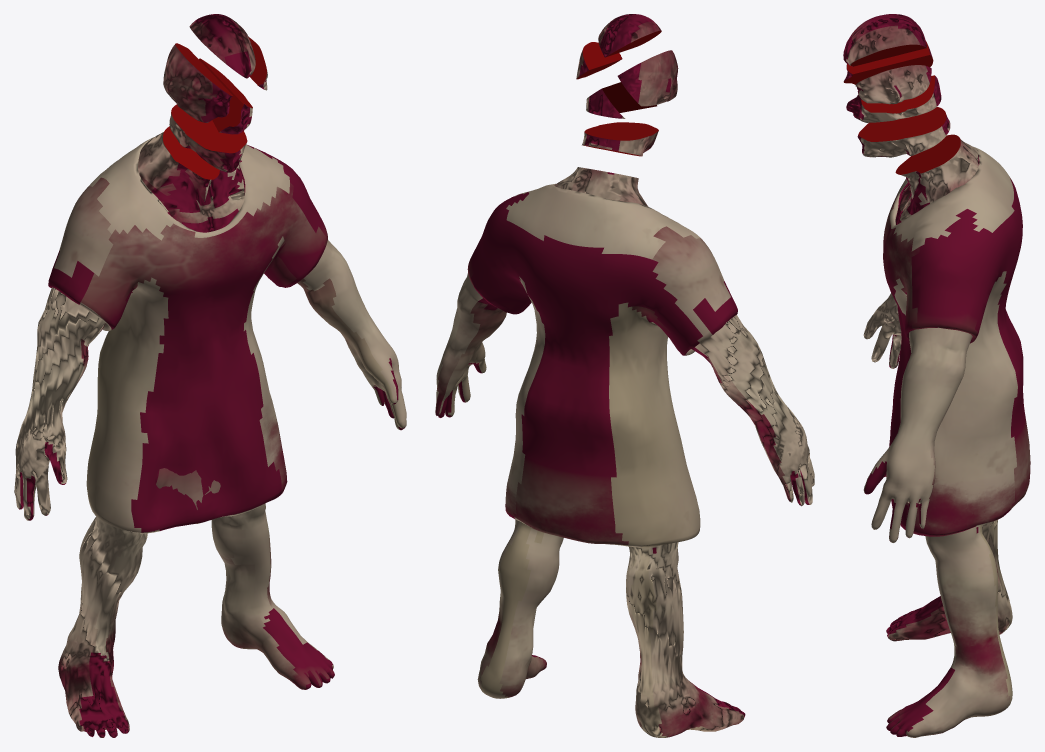
Rendered from mainchardecapated.fbx.
The picture shows the model from 3 angles, left to right: view 1: azimuth 30°, elevation 25°; view 2: azimuth 150°, elevation 25°; view 3: azimuth 270°, elevation 25°; orthographic projection. The views are drawn at different scales.
Parts seen in each view (by area): view 1: polySurface14, polySurface7, polySurface13, polySurface1, polySurface10; view 2: polySurface14, polySurface7, polySurface13, polySurface1, polySurface10, polySurface4; view 3: polySurface14, polySurface13, polySurface1, polySurface4, polySurface10, polySurface7.
Part boxes in pixels (x1,y1,x2,y2): polySurface14: (14,126,406,737); polySurface7: (163,43,232,122); polySurface13: (169,104,247,172); polySurface1: (189,14,255,78); polySurface10: (199,58,252,134); polySurface14: (435,167,814,737); polySurface7: (617,50,678,106); polySurface13: (582,122,658,156); polySurface1: (598,14,661,57); polySurface10: (586,82,656,118); polySurface4: (576,42,622,79); polySurface14: (863,134,1030,737); polySurface13: (857,107,950,157); polySurface1: (843,14,926,66); polySurface4: (855,65,931,104); polySurface10: (846,75,941,122); polySurface7: (843,41,933,84).
Bounding box in the file's own units: 9.49 × 16.59 × 4.22.
